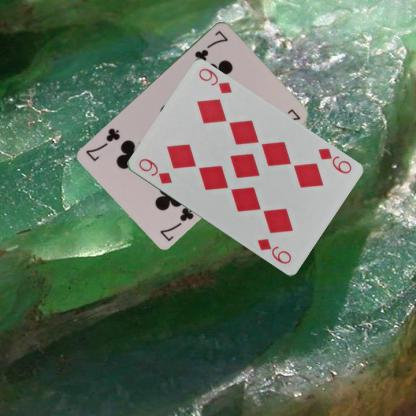7c: (157, 204, 195, 242), (192, 27, 229, 64)
9d: (135, 155, 173, 186), (315, 145, 353, 176)
